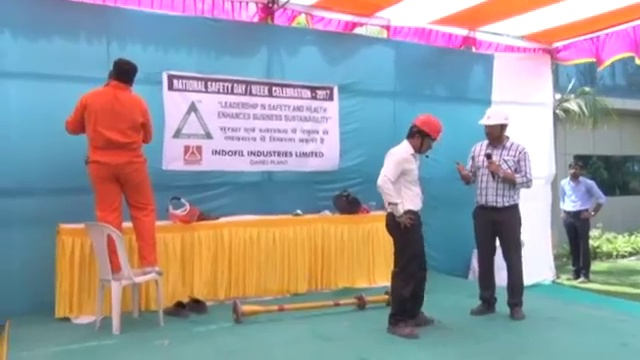helmet: (411, 111, 443, 143), (477, 105, 511, 128)
helmet_off: (109, 58, 138, 89), (566, 160, 583, 184)
helmet_on: (476, 105, 513, 147), (406, 111, 442, 154)
person: (63, 58, 166, 278), (456, 104, 533, 325), (373, 110, 442, 342), (558, 160, 606, 287)
